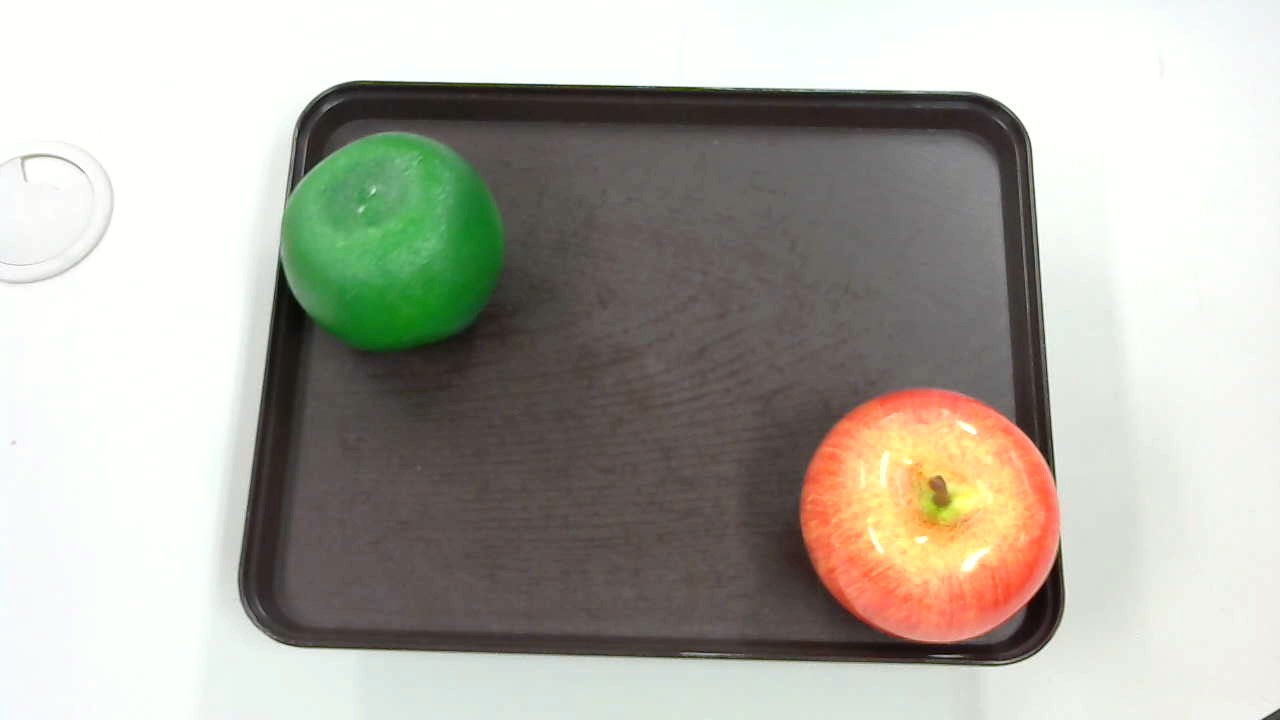green orange: (277, 128, 505, 355)
red apple: (791, 388, 1059, 637)
